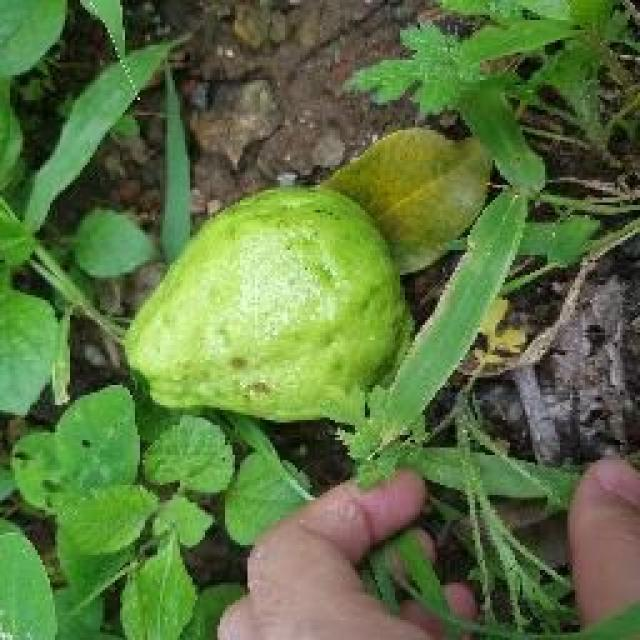Good_Guava: (122, 188, 415, 430)
